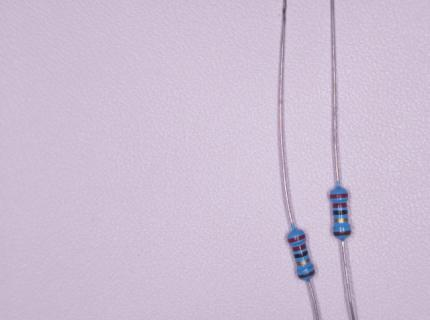Black band: (294, 250, 308, 258), (333, 210, 348, 215)
Brown band: (297, 269, 315, 279), (333, 230, 351, 236)
Gold band: (296, 258, 310, 266), (334, 218, 348, 222)
Red band: (287, 234, 306, 243), (292, 243, 307, 251), (330, 193, 348, 198), (333, 203, 347, 208)
